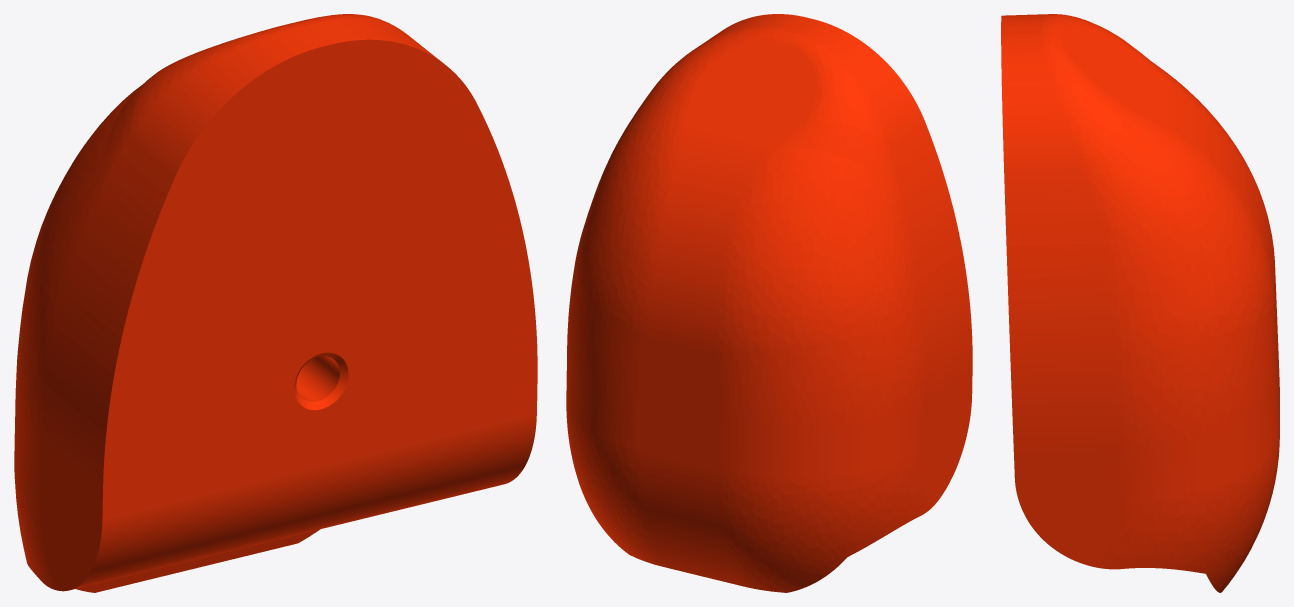
File: L_Hand_Thumb_Distal_visuals_ALLEX_Left_Hand_Thumb_Distal_Pad.obj
3 views of the same model, side by side, from view 1: azimuth 30°, elevation 25°; view 2: azimuth 150°, elevation 25°; view 3: azimuth 270°, elevation 25° (orthographic). The views are drawn at different scales.
Size of the model in its own units: 0.016 by 0.0218 by 0.0106.
